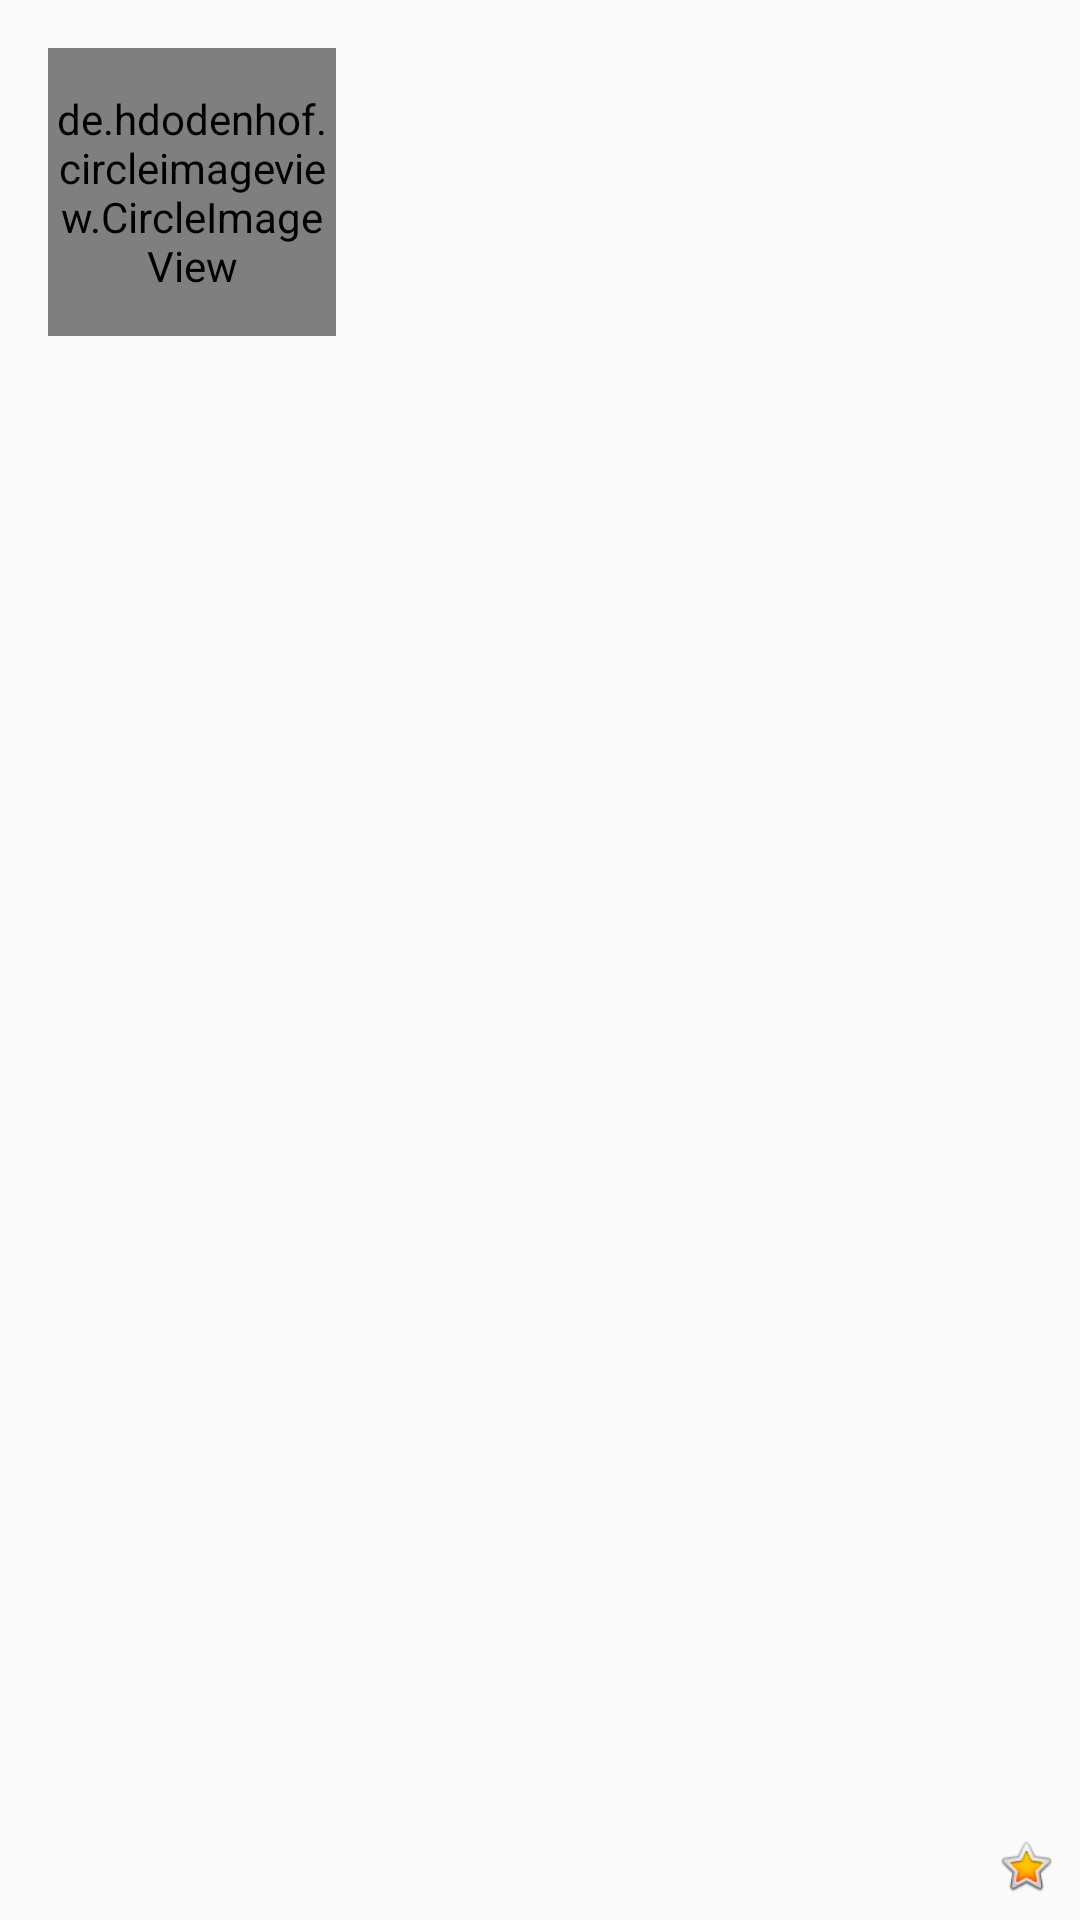

Point at icon controls on the screen. Image size 1080 x 1920, points as (x,y).
star on: (1026,1866)
